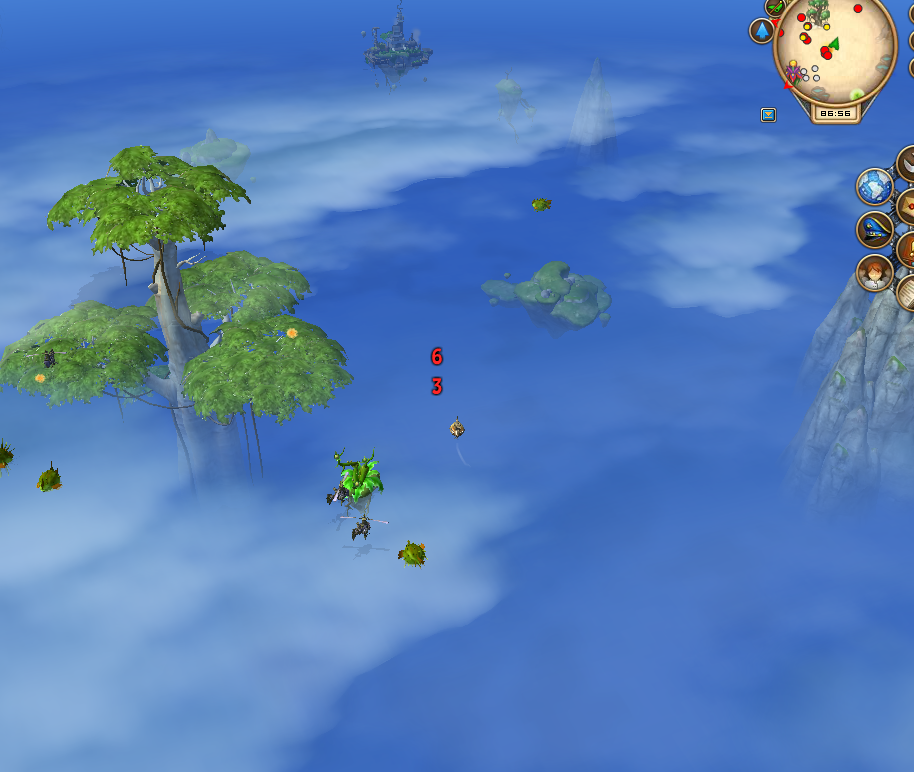dandelion-empty: (329, 436, 386, 512)
fluff: (28, 368, 51, 390), (279, 321, 303, 341)
